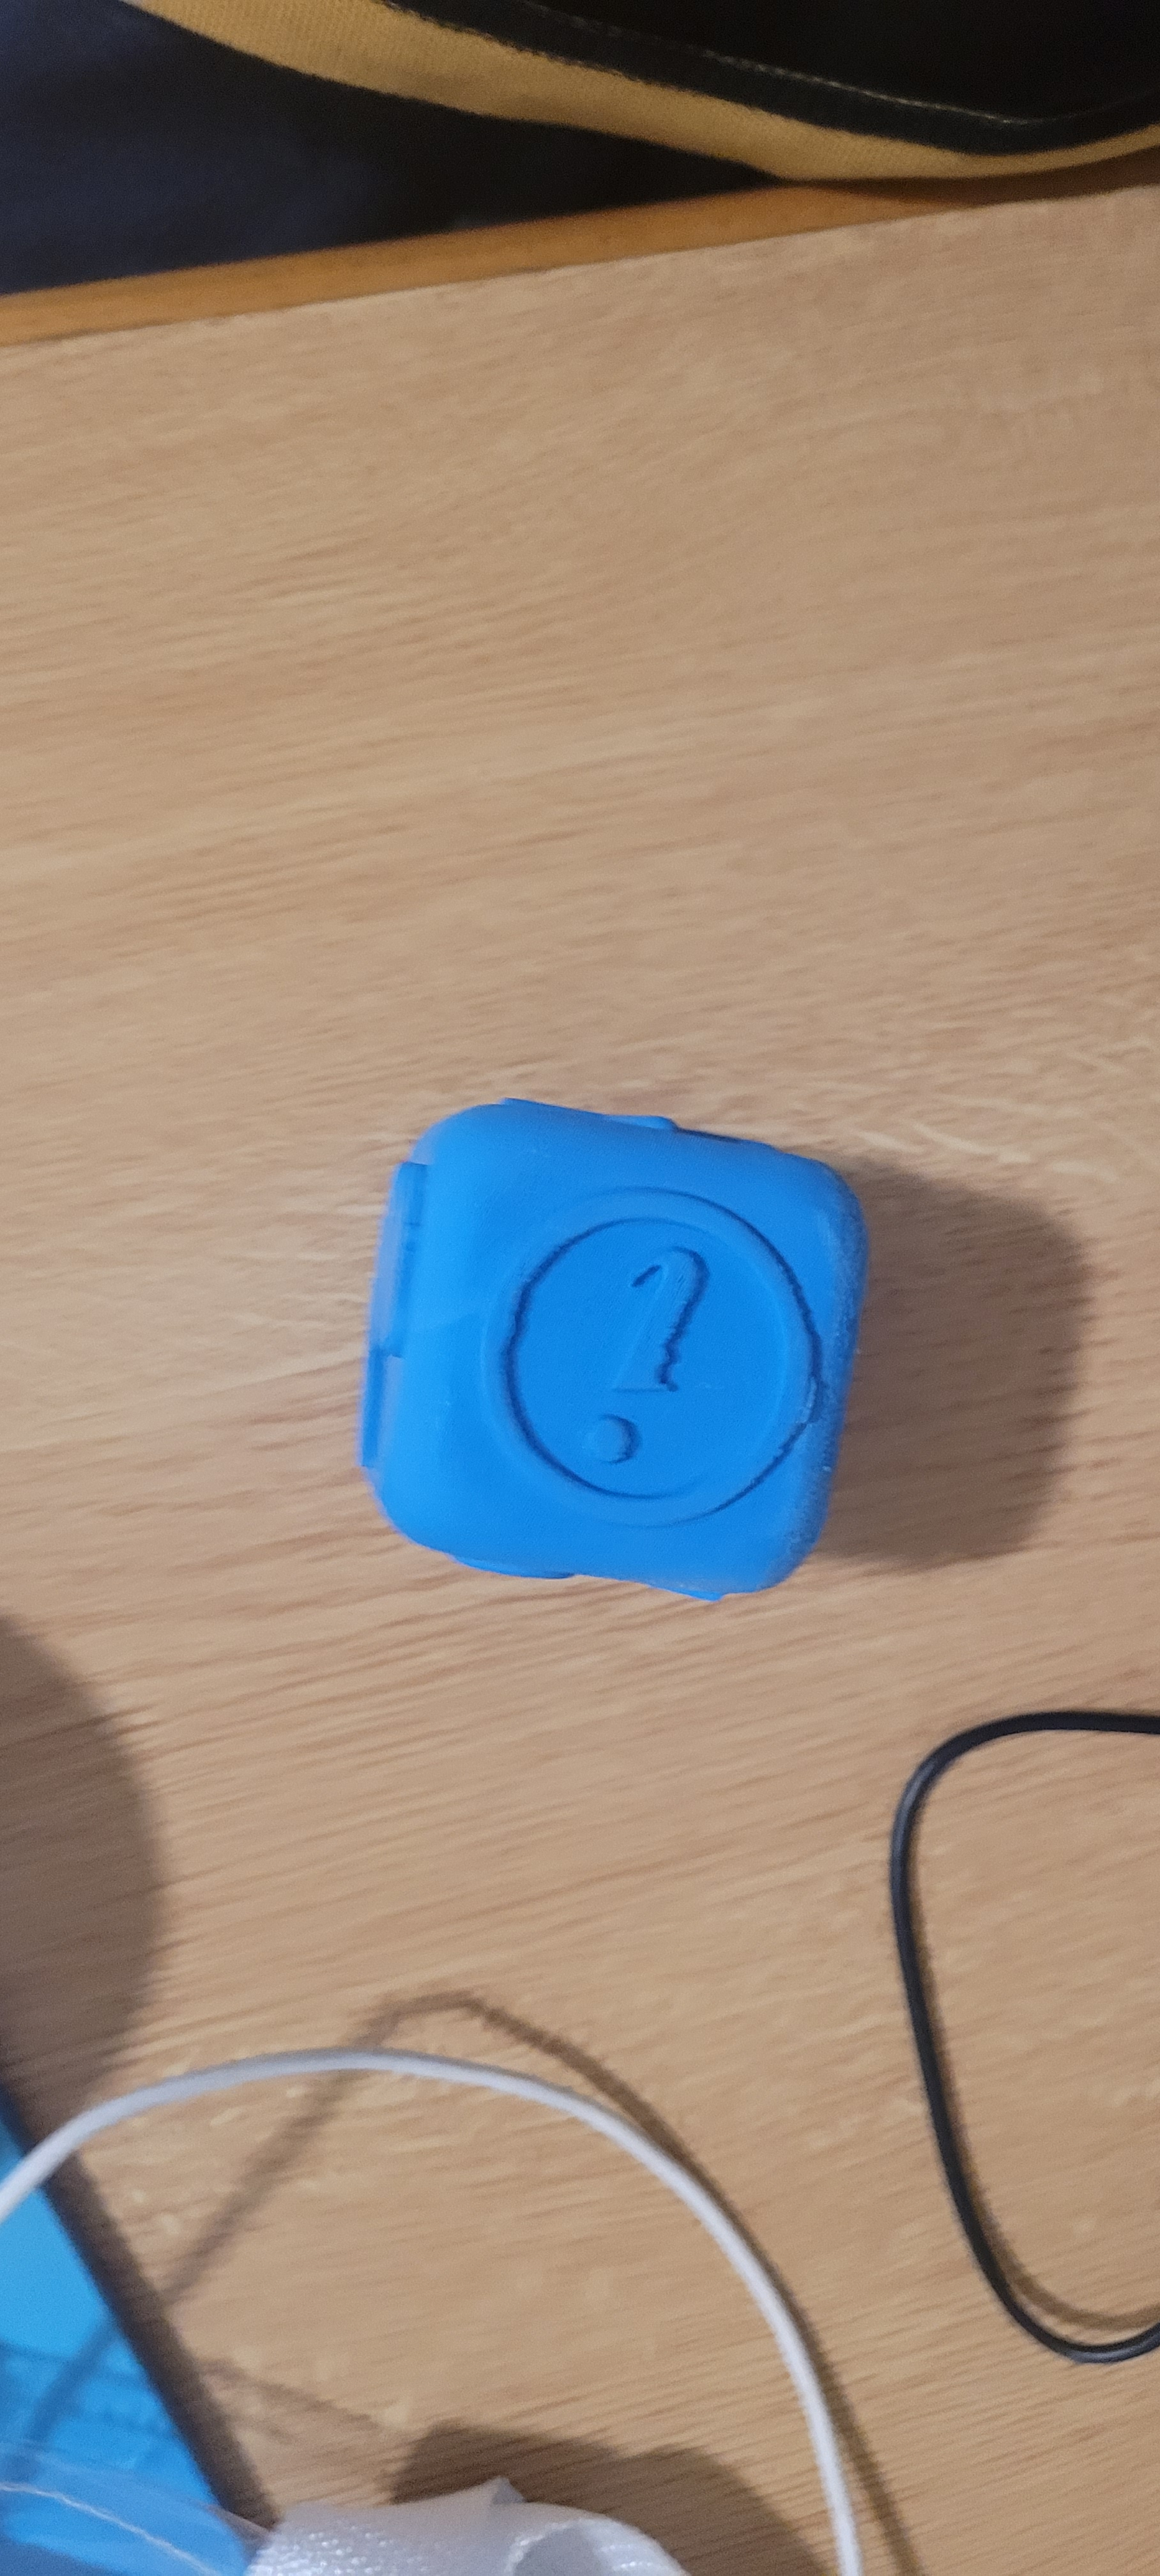Info: (476, 1170, 833, 1562)
